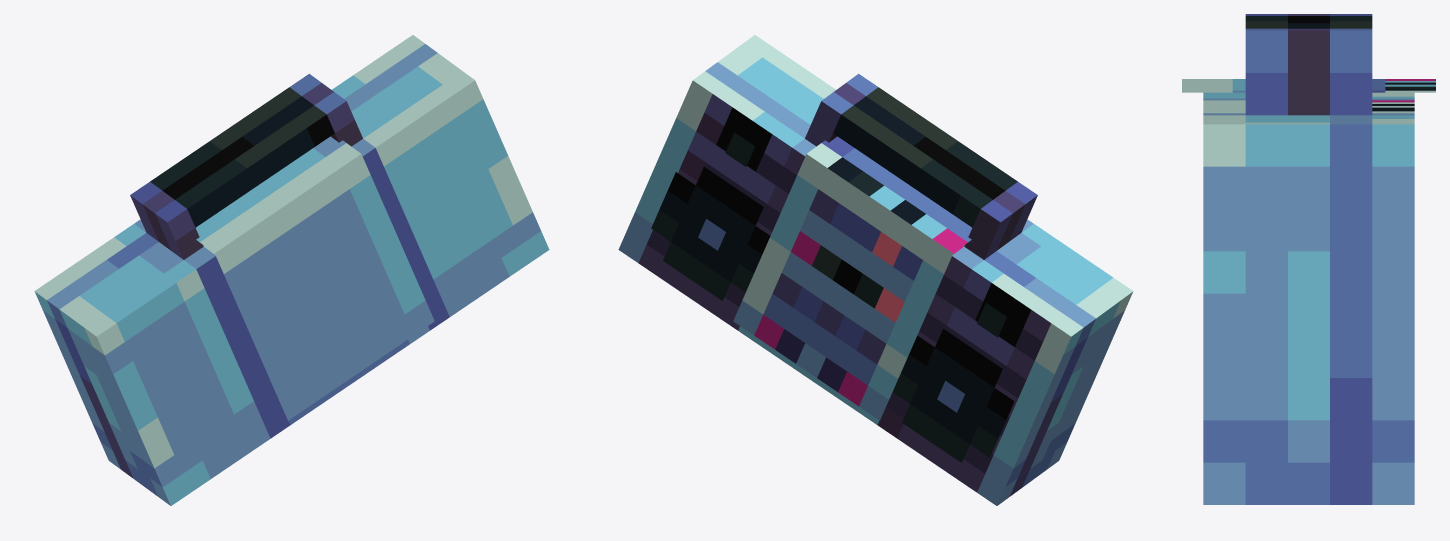
File: sl_boombox.glb
3 renders of one model, left to right at view 1: azimuth 30°, elevation 25°; view 2: azimuth 150°, elevation 25°; view 3: azimuth 270°, elevation 25°, orthographic. The views are drawn at different scales.
Parts seen in each view (by area): view 1: bb_boombox; view 2: bb_boombox; view 3: bb_boombox.
Part boxes in pixels (x1,y1,x2,y2): bb_boombox: (34, 35, 549, 505); bb_boombox: (618, 35, 1133, 505); bb_boombox: (1182, 14, 1435, 504).
Bounding box in the file's own units: 1.39 × 1.06 × 0.375.
1 material, 1 textured.
